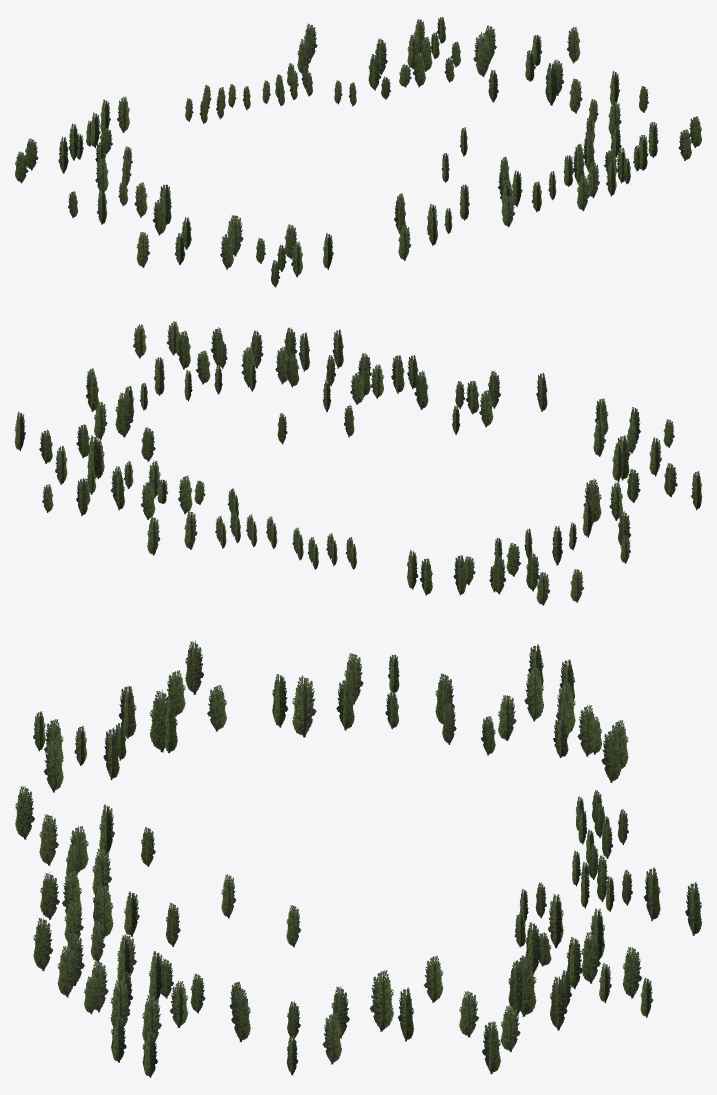
File: SM_Trees_01a.fbx
3 renders of one model, top to bottom at view 1: azimuth 30°, elevation 25°; view 2: azimuth 150°, elevation 25°; view 3: azimuth 270°, elevation 25°, orthographic. The views are drawn at different scales.
Parts seen in each view (by area): view 1: SM_Trees01a; view 2: SM_Trees01a; view 3: SM_Trees01a.
Boxes of the visible parts, x1,y1,x2,y2 form: SM_Trees01a: [15, 17, 701, 287]; SM_Trees01a: [14, 321, 702, 605]; SM_Trees01a: [15, 640, 701, 1077].
Size of the model in its own units: 514 by 37.4 by 381.
